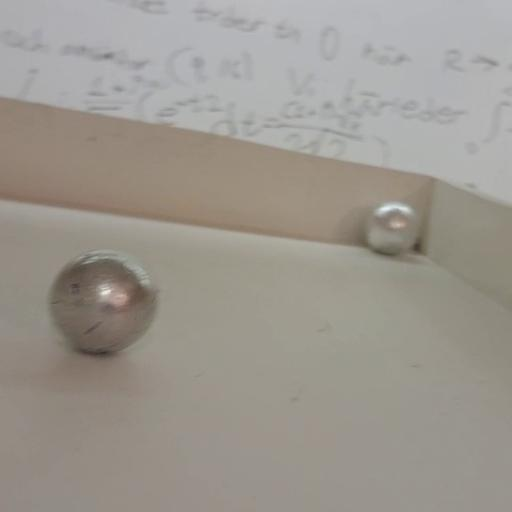alive: (47, 250, 158, 355), (366, 200, 420, 254)
